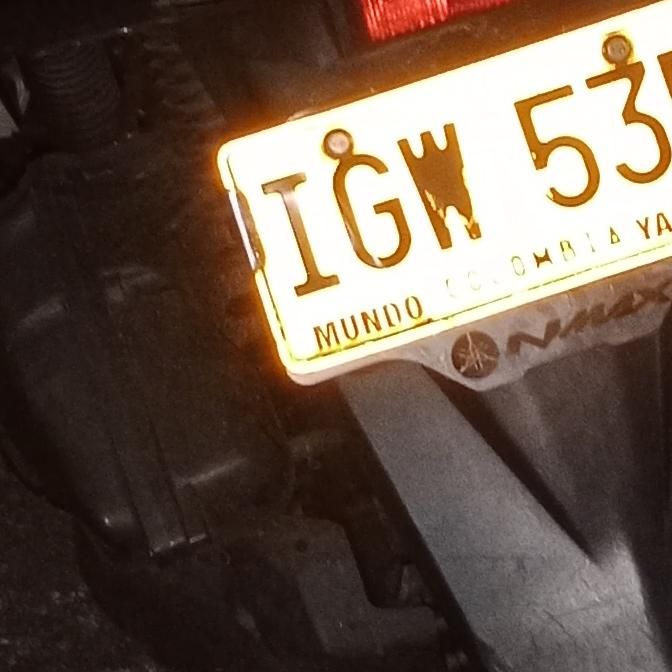plates: (209, 5, 672, 388)
